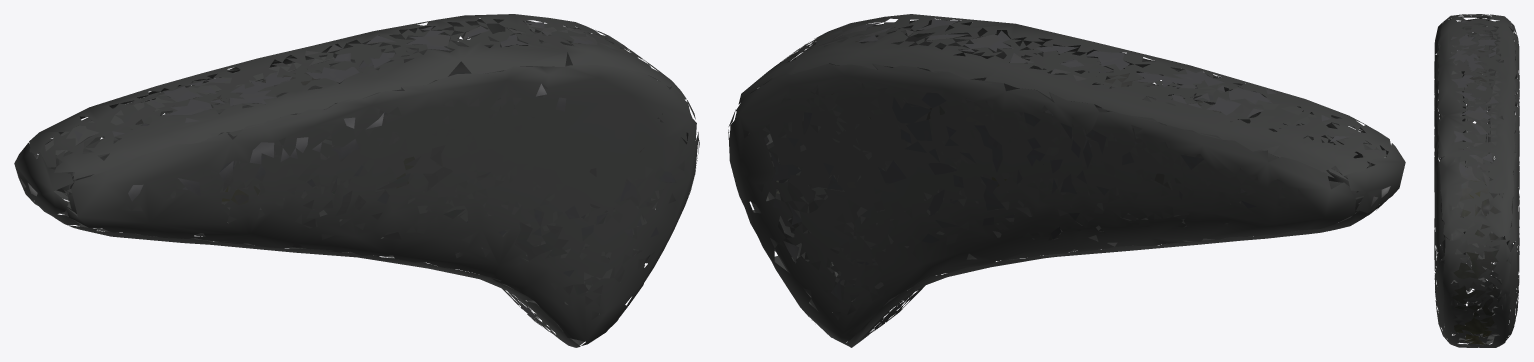
The model's file is pincer.glb.
3 views of the same model, side by side, from view 1: azimuth 30°, elevation 25°; view 2: azimuth 150°, elevation 25°; view 3: azimuth 270°, elevation 25° (orthographic). The views are drawn at different scales.
Bounding box in the file's own units: 0.035 × 0.0171 × 0.0067.
1 material, 1 textured.
